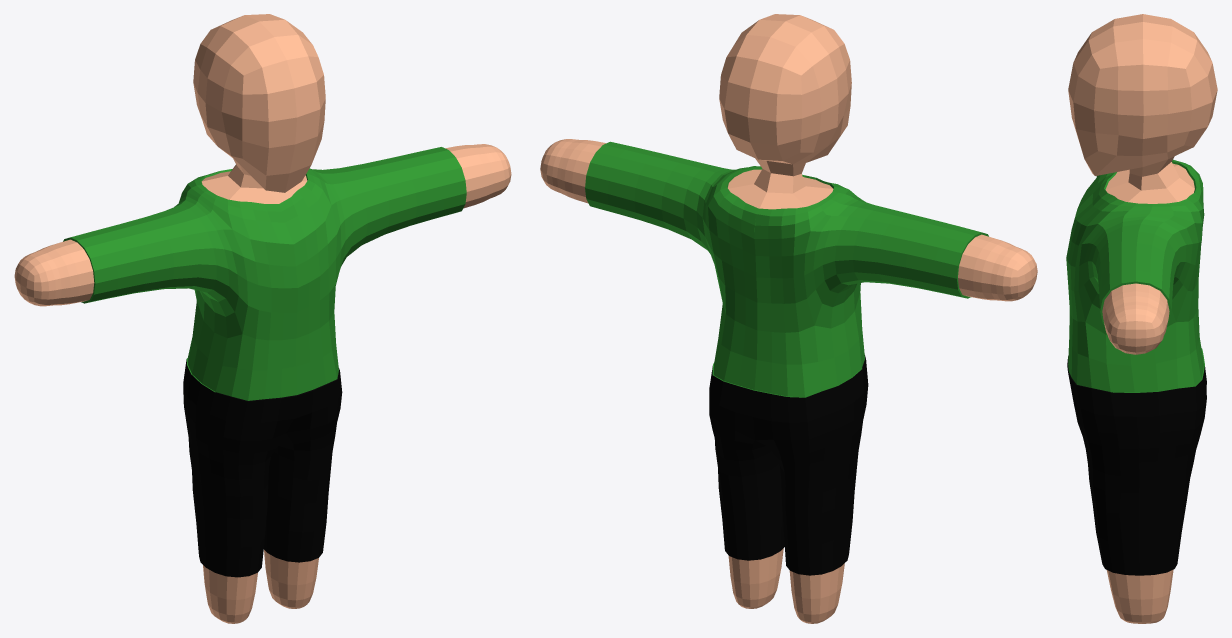
Rendered from Mod15.glb.
3 renders of one model, left to right at view 1: azimuth 30°, elevation 25°; view 2: azimuth 150°, elevation 25°; view 3: azimuth 270°, elevation 25°, orthographic.
Parts seen in each view (by area): view 1: Modelo 5a; view 2: Modelo 5a; view 3: Modelo 5a.
Boxes of the visible parts, x1,y1,x2,y2 form: Modelo 5a: [14, 14, 511, 623]; Modelo 5a: [540, 14, 1037, 623]; Modelo 5a: [1066, 14, 1217, 623].
Bounding box in the file's own units: 7.96 × 9.2 × 2.17.
